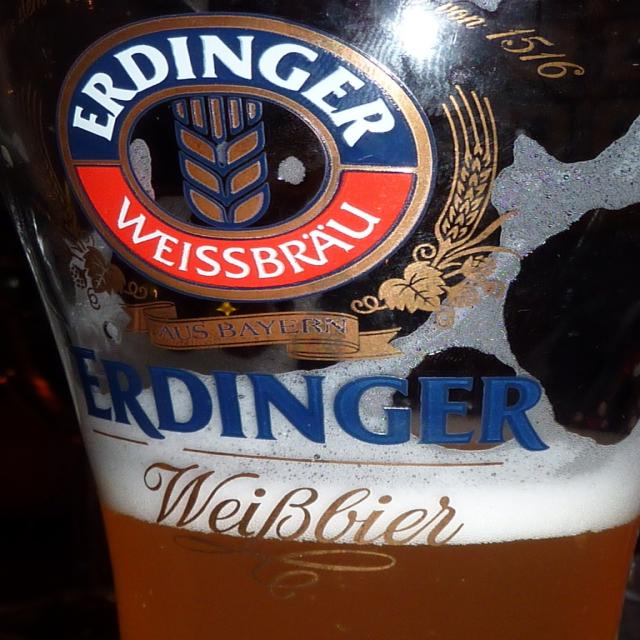erdinger: (43, 8, 562, 472)
